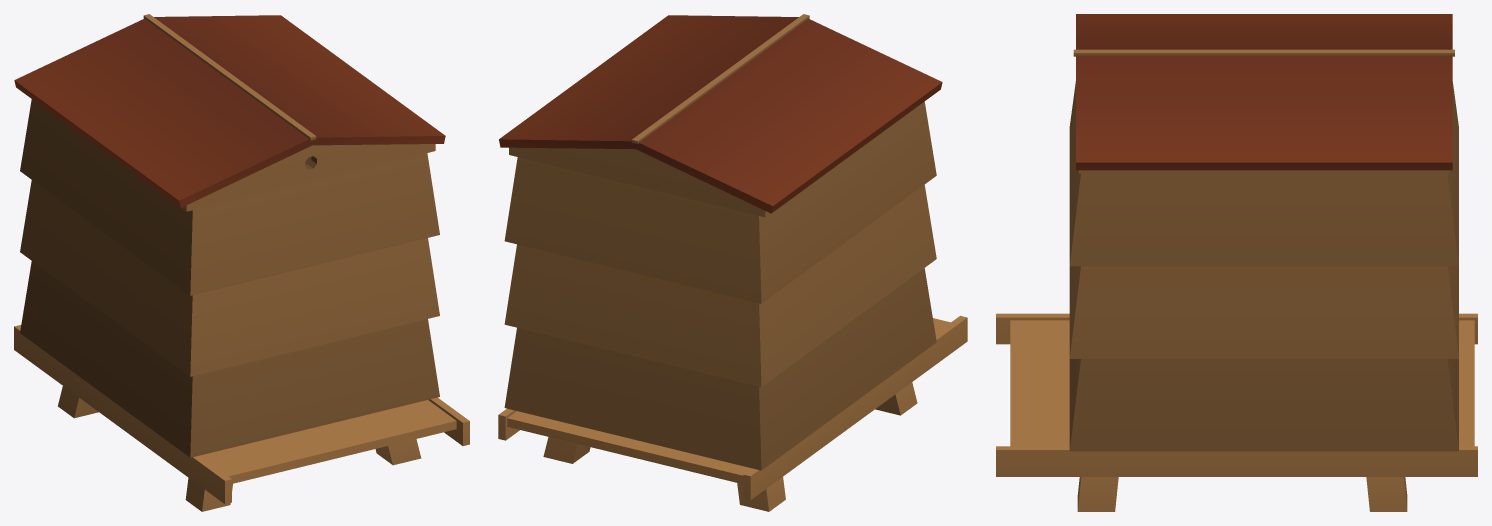
File: Bld_Beehive_02.obj
3 views of the same model, side by side, from view 1: azimuth 30°, elevation 25°; view 2: azimuth 150°, elevation 25°; view 3: azimuth 270°, elevation 25° (orthographic). The views are drawn at different scales.
Parts seen in each view (by area): view 1: Bld_Beehive_02; view 2: Bld_Beehive_02; view 3: Bld_Beehive_02.
Boxes of the visible parts, box(x1,y1,x2,y2) form: Bld_Beehive_02: box(14, 14, 469, 511); Bld_Beehive_02: box(498, 14, 967, 511); Bld_Beehive_02: box(996, 14, 1477, 511).
Size of the model in its own units: 0.6905 by 0.8658 by 0.9466.
1 material, 1 textured.
